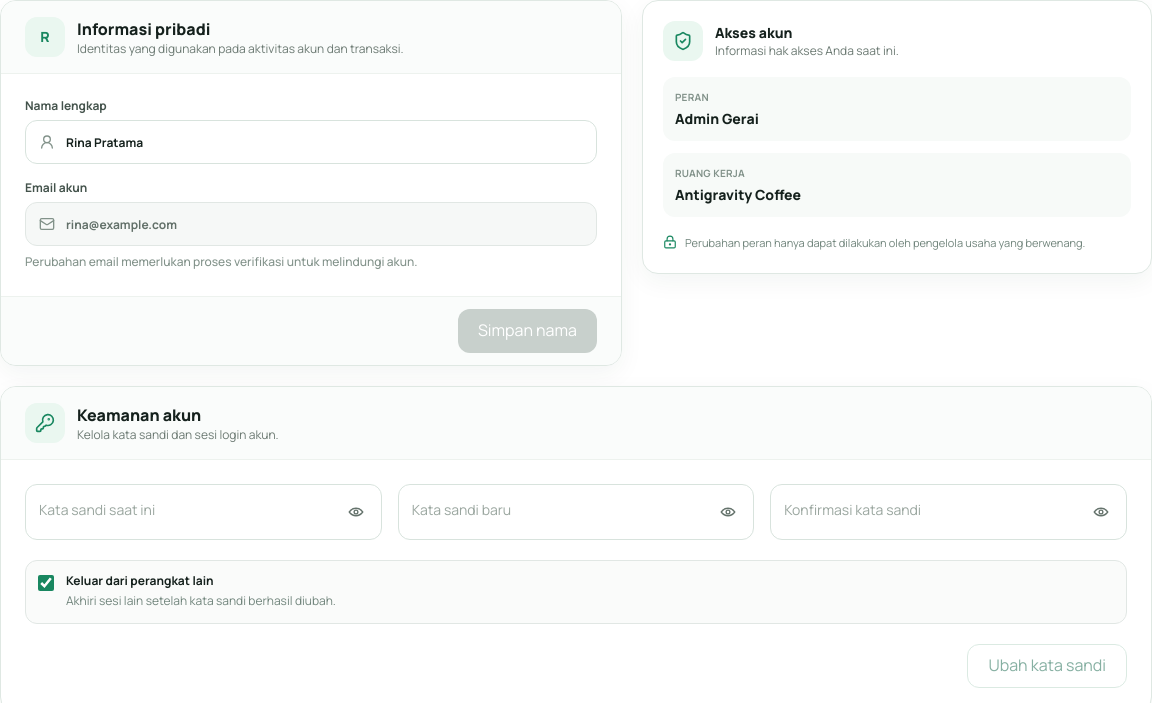
Test: ProfileManager › updates a trimmed account name and refreshes server data
Replace the text in the field labelled "Nama lengkap" with "  Rina Maharani  ": (311, 142) x1=25 y1=120 x2=597 y2=164
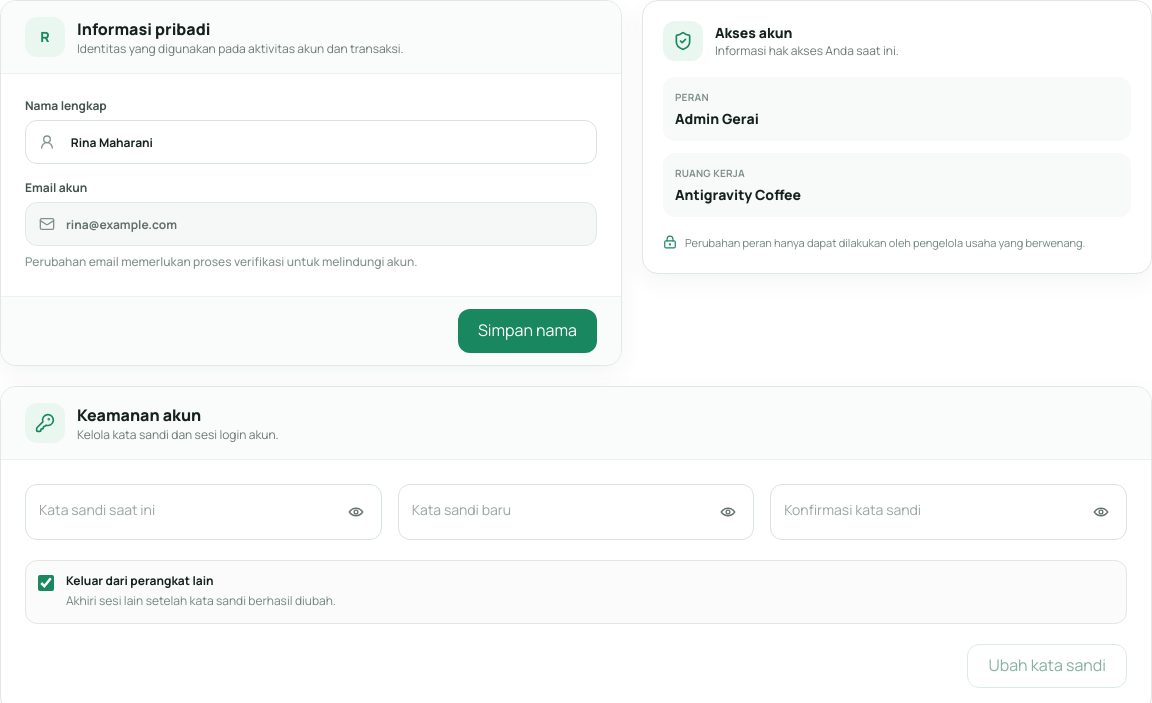
Click the button "Simpan nama": click(527, 331) x1=458 y1=309 x2=597 y2=353
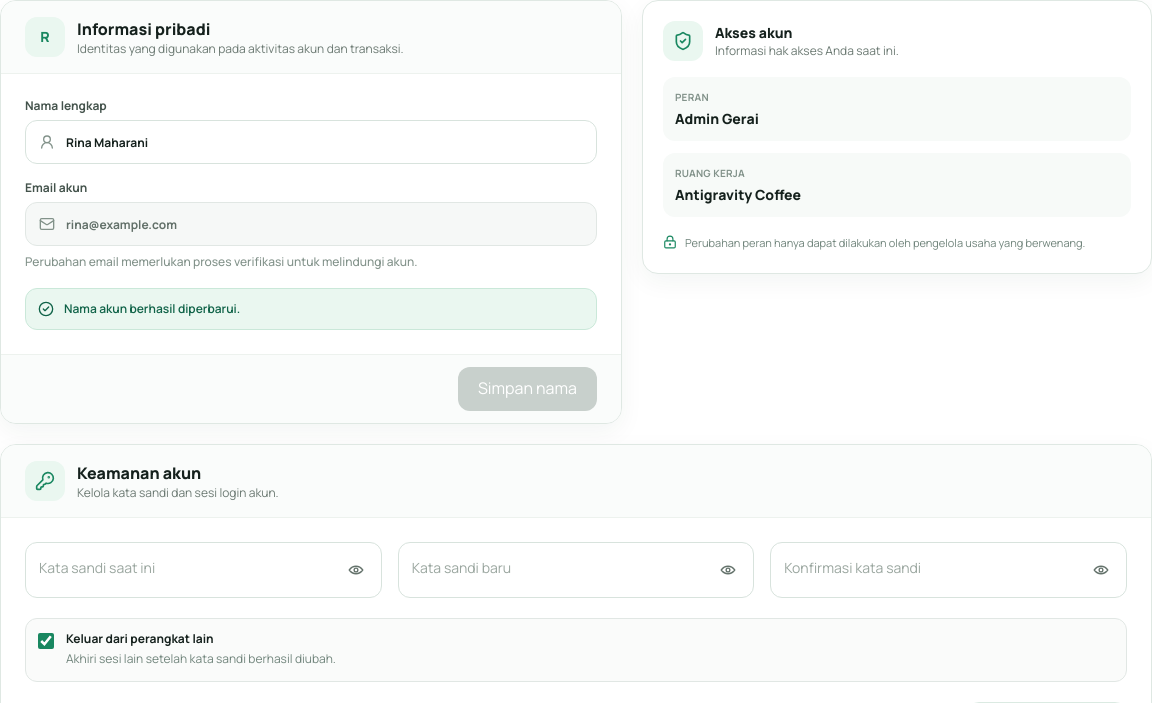
Result: the text "Nama akun berhasil diperbarui." is shown at x1=64 y1=301 x2=240 y2=317
